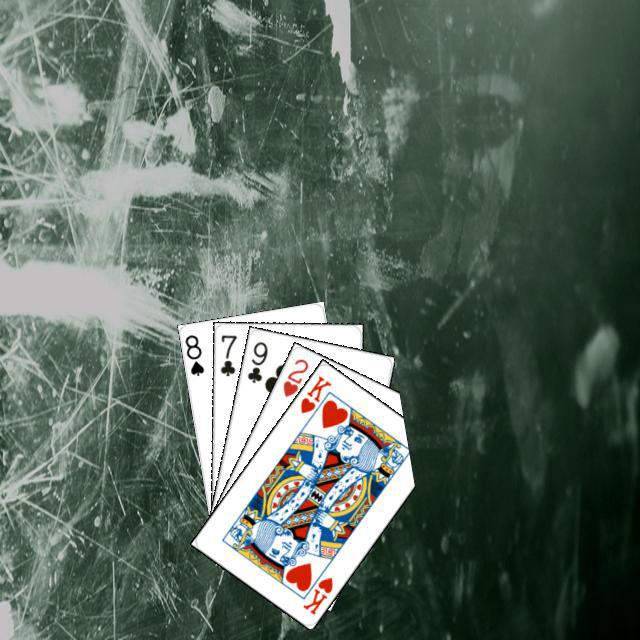2h: (278, 354, 310, 399)
7c: (216, 330, 238, 378)
8s: (180, 330, 206, 378)
9c: (242, 337, 269, 384)
Kh: (295, 371, 334, 424), (298, 572, 335, 617)
